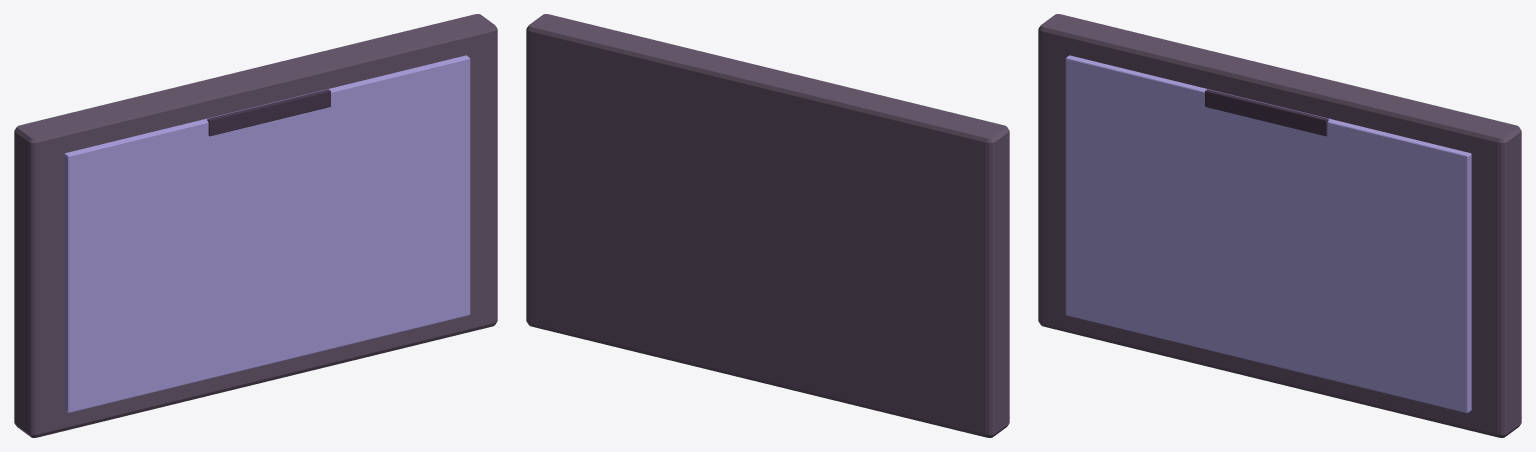
Rendered from tablet_dashboard.glb.
3 renders of one model, left to right at view 1: azimuth 30°, elevation 25°; view 2: azimuth 150°, elevation 25°; view 3: azimuth 330°, elevation 25°, orthographic.
Parts seen in each view (by area): view 1: display, case, model; view 2: case; view 3: display, case, model.
Boxes of the visible parts, left/top/right/bottom form: display: left=64, top=55, right=470, bottom=413; case: left=14, top=14, right=497, bottom=437; model: left=207, top=89, right=330, bottom=136; case: left=526, top=14, right=1009, bottom=437; display: left=1065, top=55, right=1471, bottom=413; case: left=1038, top=14, right=1521, bottom=437; model: left=1205, top=89, right=1328, bottom=136.
Size of the model in its own units: 0.9 by 0.55 by 0.08.
